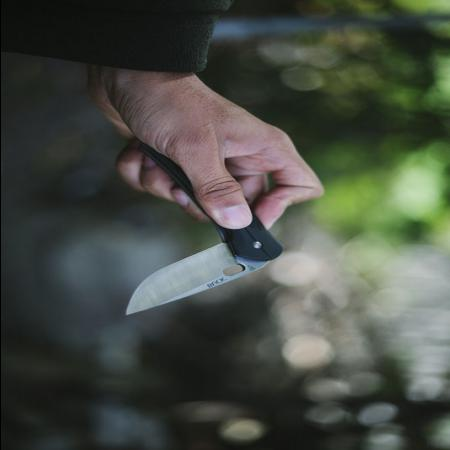long weapon: (109, 186, 295, 324)
